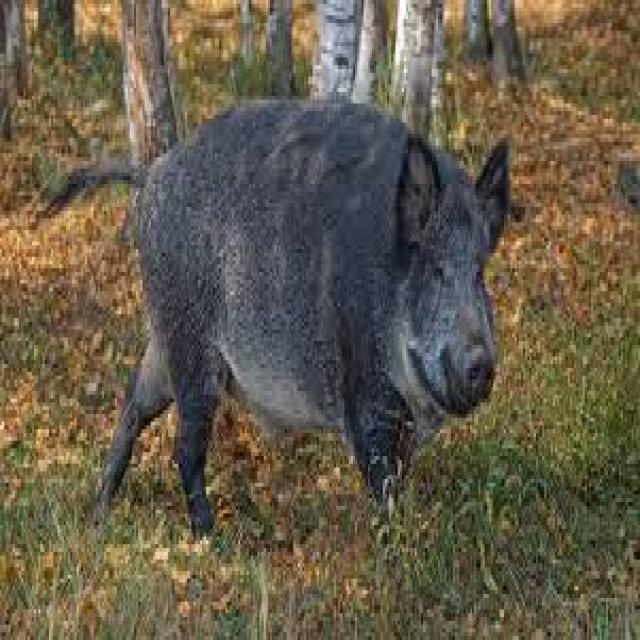Boar: (73, 111, 507, 520)
